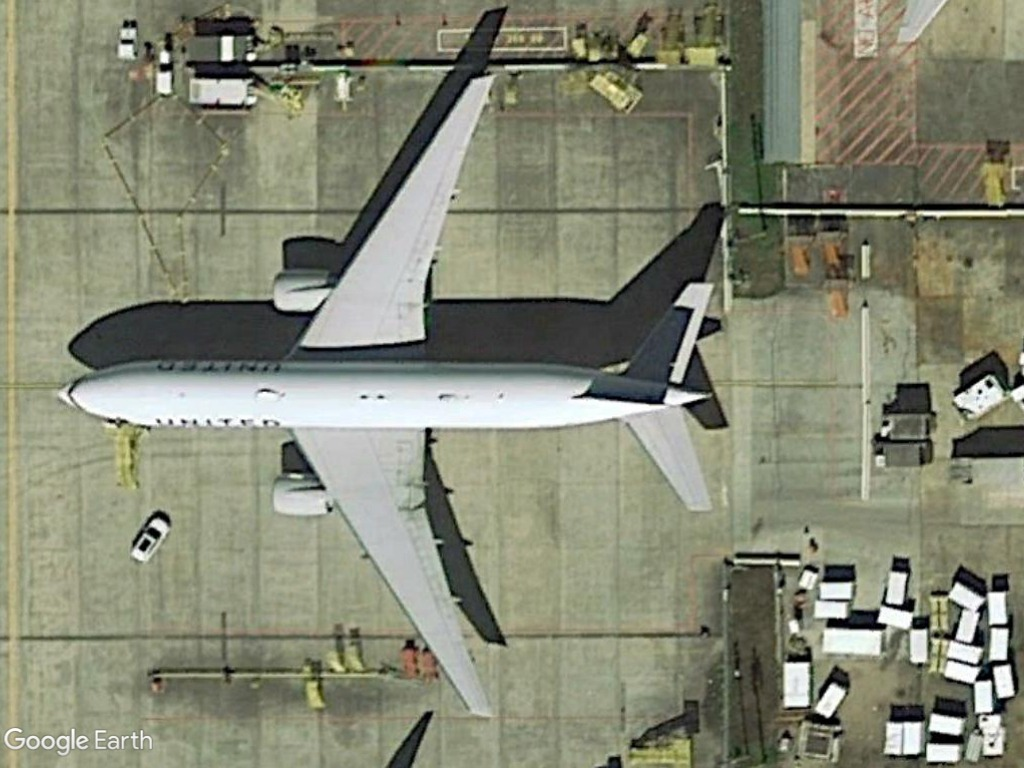airliner: (48, 69, 723, 724)
car: (129, 512, 172, 567)
